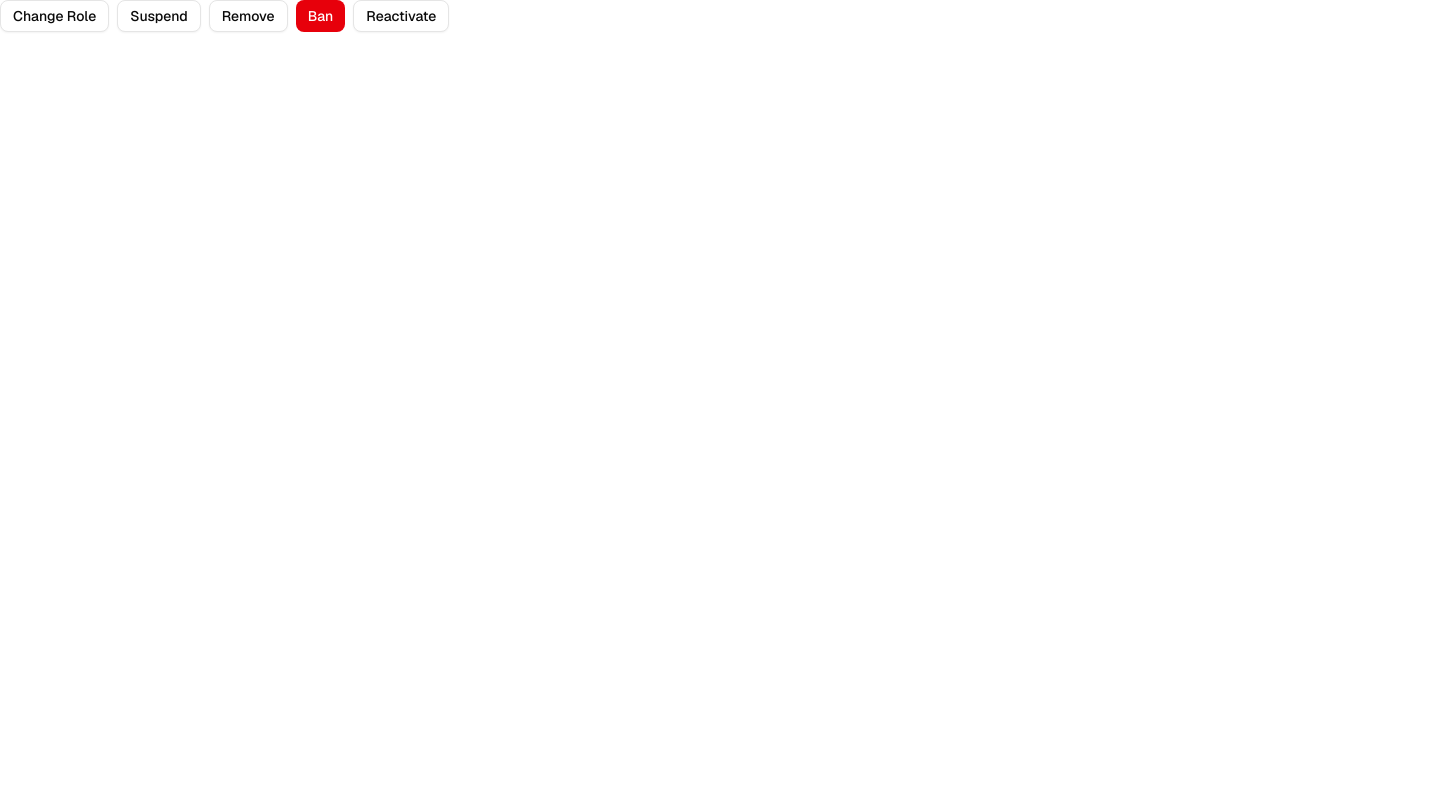
Test case: MemberActions › opens ban dialog with required reason
Step 1. Click the button "Ban" → (320, 16), box x1=296 y1=0 x2=345 y2=32
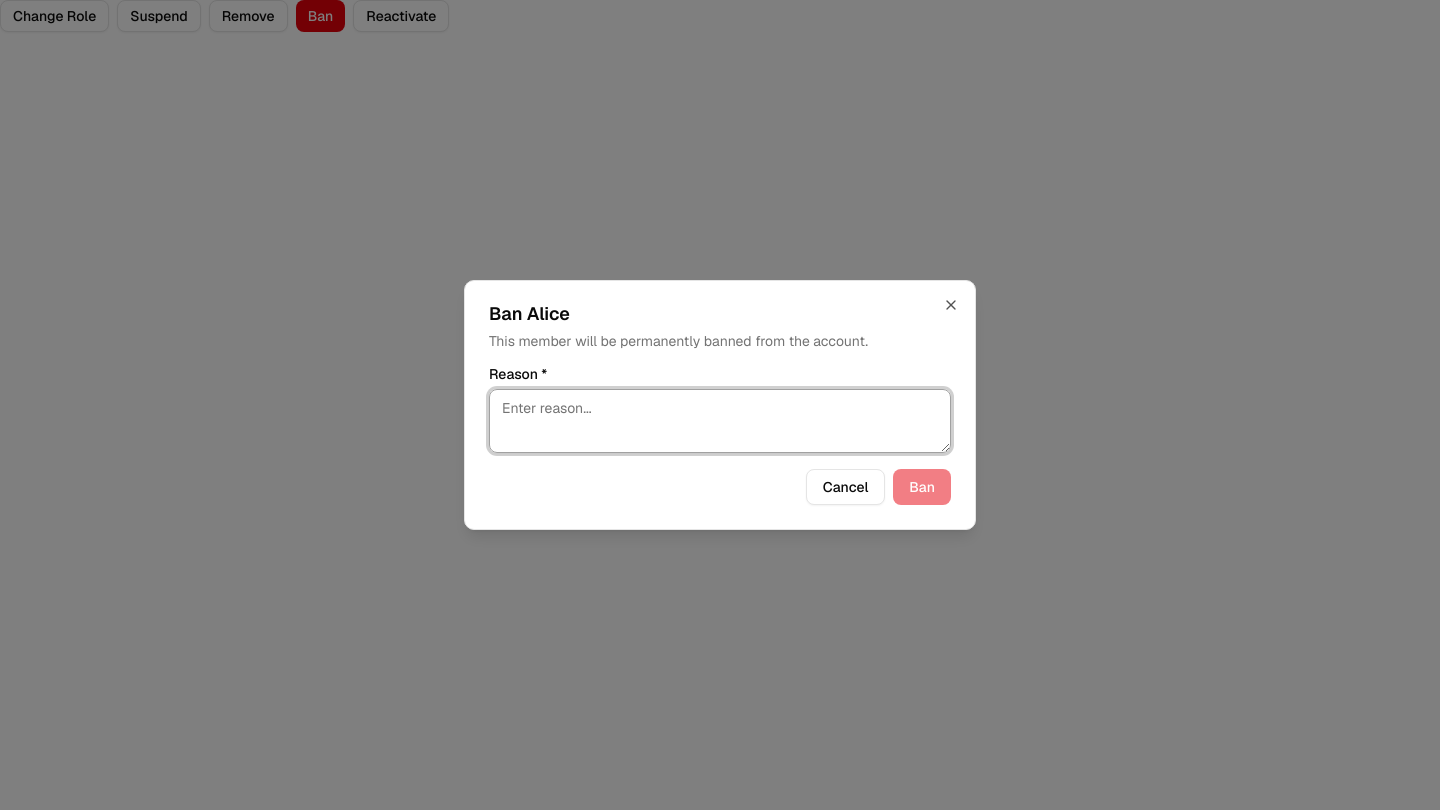
Expected: the heading "Ban Alice" is shown, x1=489 y1=302 x2=570 y2=325
Expected: the button "Ban" is shown, x1=893 y1=469 x2=951 y2=505
